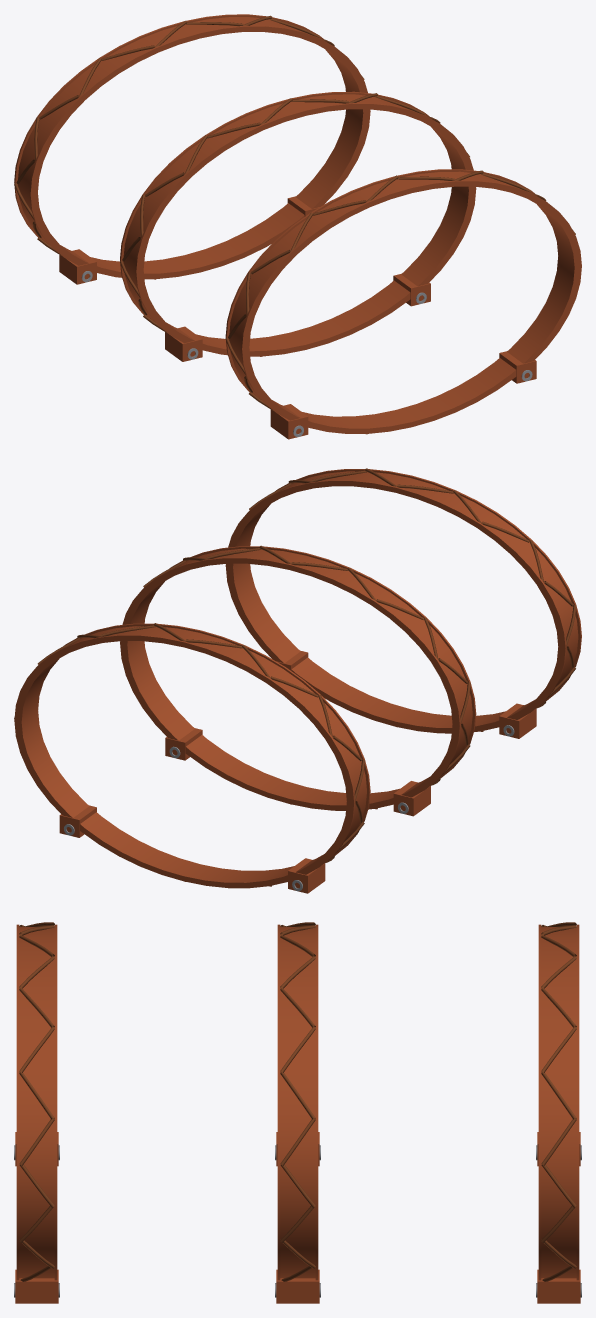
The model's file is pod100_cradles.obj.
The picture shows the model from 3 angles, top to bottom: view 1: azimuth 30°, elevation 25°; view 2: azimuth 150°, elevation 25°; view 3: azimuth 270°, elevation 25°; orthographic projection. The views are drawn at different scales.
Parts seen in each view (by area): view 1: pod100_cradles; view 2: pod100_cradles; view 3: pod100_cradles.
Boxes of the visible parts, x1=… form: pod100_cradles: x1=14, y1=14, x2=581, y2=439; pod100_cradles: x1=14, y1=468, x2=581, y2=893; pod100_cradles: x1=14, y1=922, x2=581, y2=1303.
Bounding box in the file's own units: 7.22 × 4.88 × 8.38.
